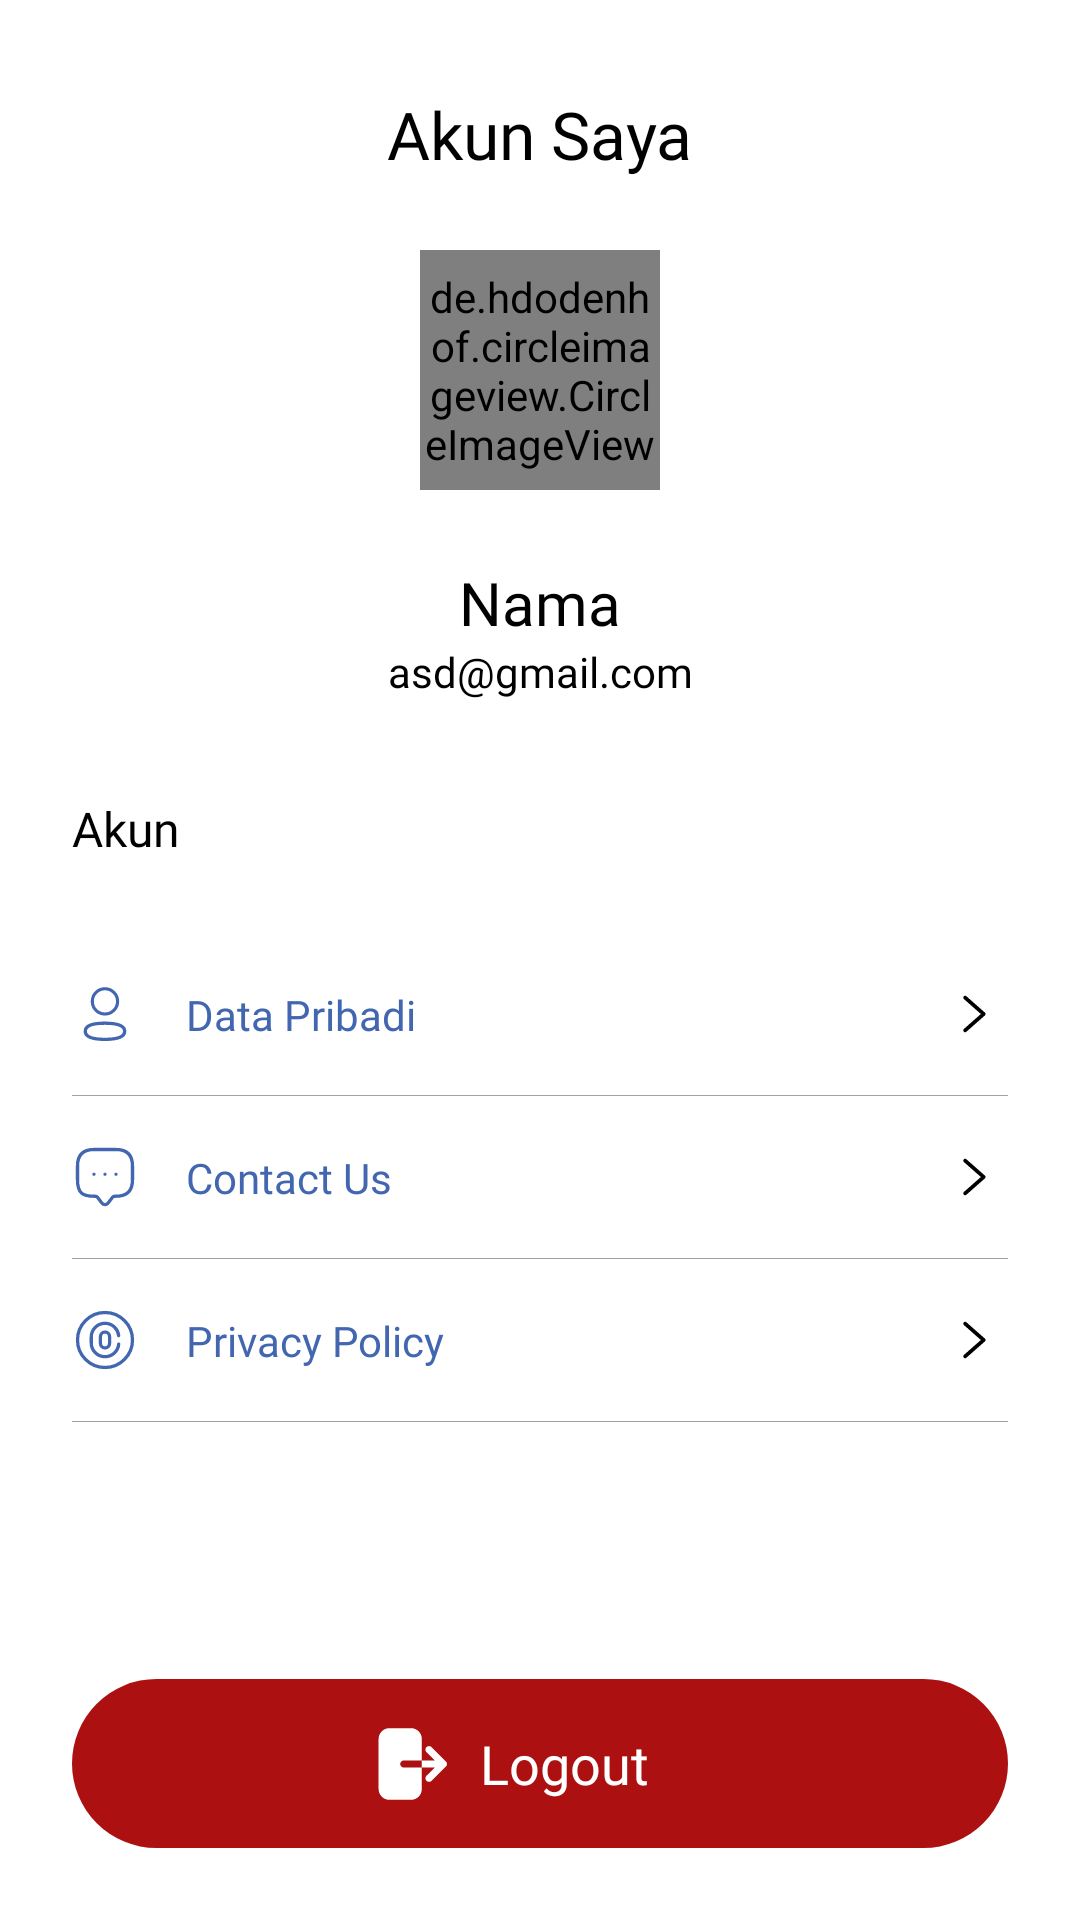

Named icons in this screenshot (1080px x 1920px) and their bounding boxes, (x1, y1, x2, y2):
finger cricle: (76, 1311, 134, 1369)
message: (75, 1147, 135, 1207)
profile: (83, 987, 127, 1041)
